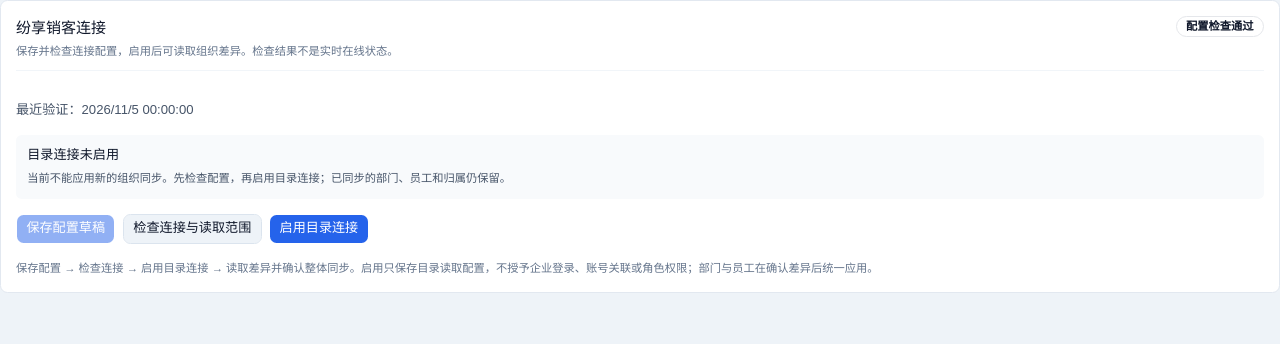
Test: explicitly activates a verified draft and retains the effective state when reopened
Later steps or results of the test are not shown.
Expected: the text "配置检查通过" is shown, [1176, 16, 1264, 37]
Expected: the text "目录连接未启用" is shown, [27, 147, 119, 162]
Click the button "启用目录连接": (319, 228) [269, 214, 369, 244]
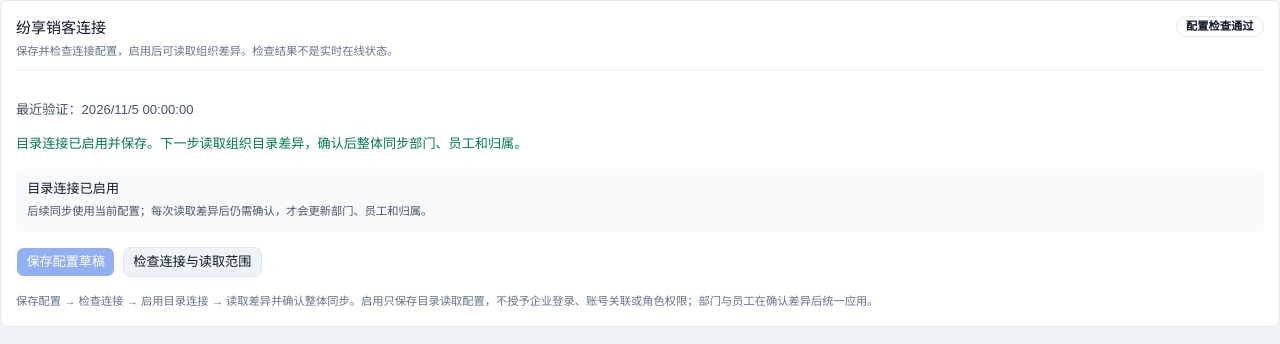
Expected: the text "目录连接已启用" is shown, [27, 181, 119, 196]
